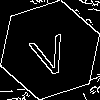V: (25, 25, 73, 78)
